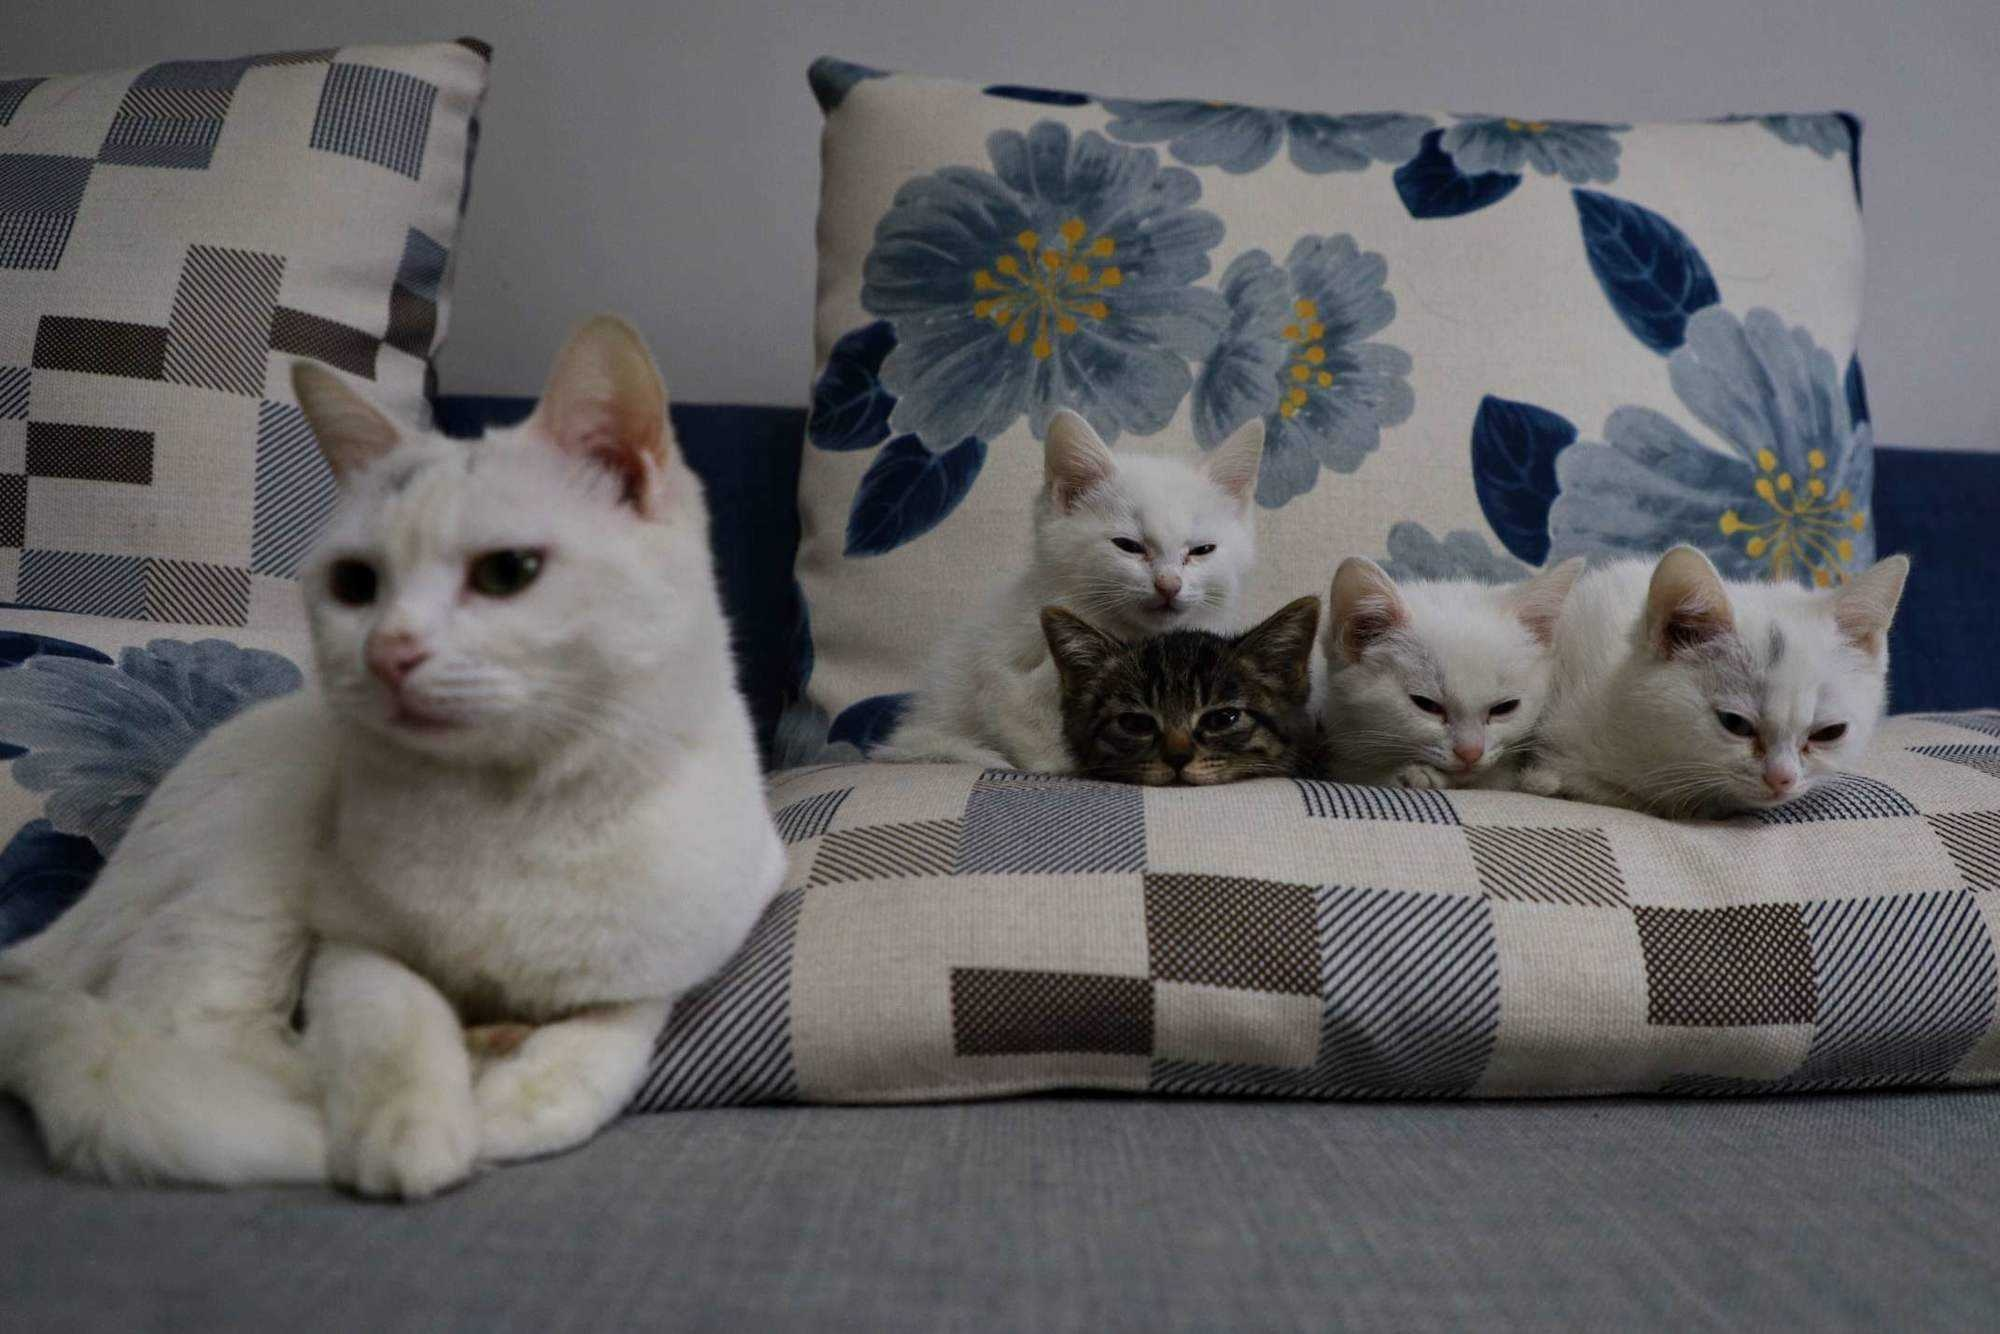cat: (1, 311, 789, 1204), (860, 405, 1269, 771), (1536, 539, 1911, 814), (1321, 549, 1592, 795), (1039, 593, 1330, 786)
